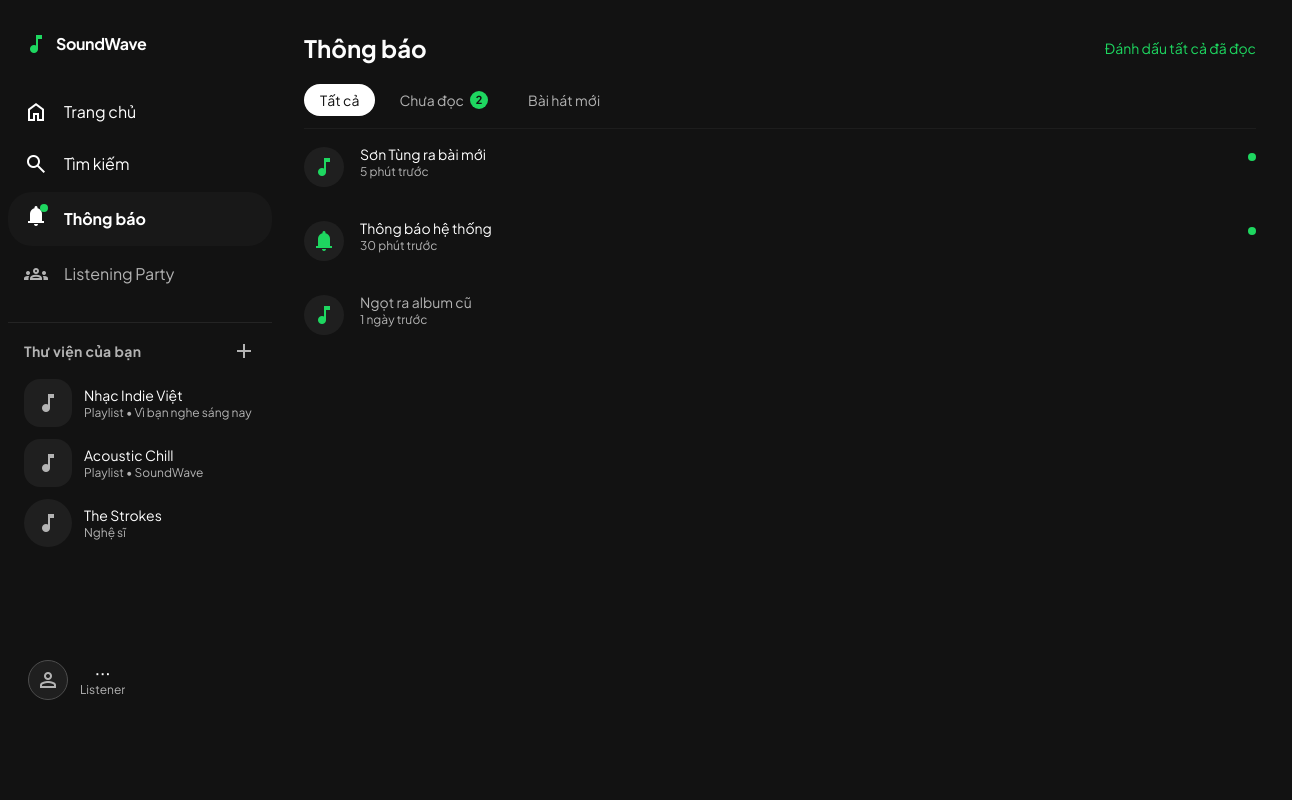
Test: NotificationsPage — FilterPills › "Chưa đọc" filter shows only unread notifications
This screenshot has width=1292, height=800.
Expected: the element with test id "notifications-list" is shown, [280,129,1280,351]
Step 1. Click the button with test id "filter-pill-unread" → (444, 100), box [383,84,504,116]
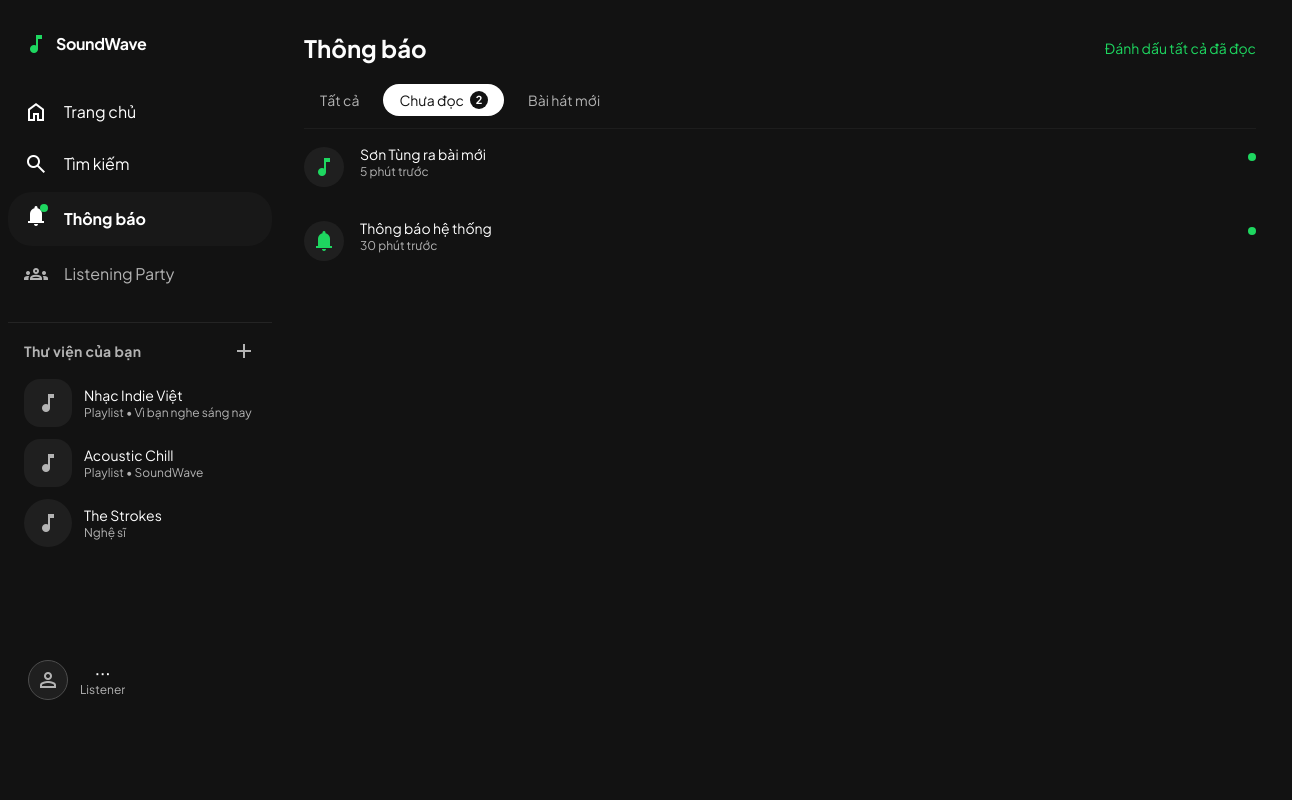
Expected: the number of buttons with test id "notification-row" is 2, [280,129,1280,203]; [280,203,1280,277]
